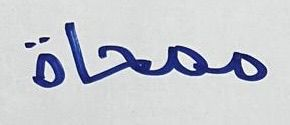alef: (68, 18, 91, 90)
heh: (92, 43, 152, 83)
meem: (217, 44, 270, 84)
sad: (155, 38, 215, 81)
teh_marbota: (23, 32, 66, 92)
